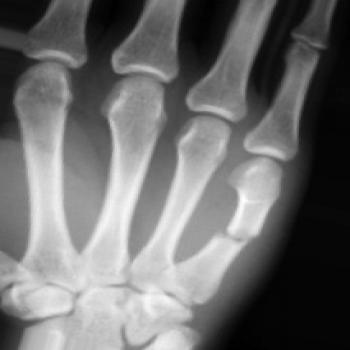Fracture: (210, 222, 269, 250)
